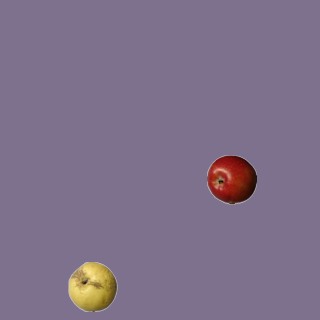Apple Braeburn: (206, 154, 256, 204)
Apple Golden 1: (67, 261, 117, 311)
